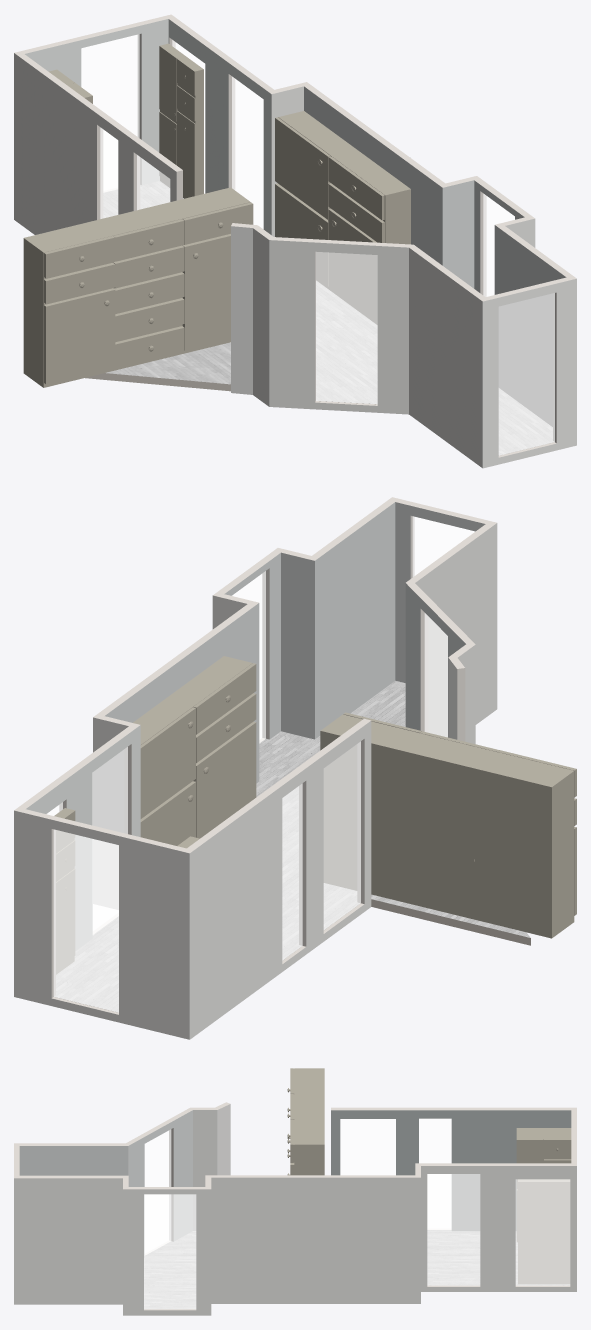
File: BasementHallway.glb
3 views of the same model, one above another, from view 1: azimuth 30°, elevation 25°; view 2: azimuth 150°, elevation 25°; view 3: azimuth 270°, elevation 25° (orthographic). The views are drawn at different scales.
Parts seen in each view (by area): view 1: storage_cabinet_mid30, storage_cabinet_mid20, wall_6, wall_3, wall_5, floor_Other_1, door_7, door_15, wall_32, door_1, door_9, wall_0 (+28 smaller); view 2: storage_cabinet_mid30, wall_6, wall_7, storage_cabinet_mid20, wall_32, floor_Other_1, door_0, door_8, wall_5, wall_36, door_5, door_13 (+29 smaller); view 3: wall_10, wall_9, wall_26, wall_13, floor_Other_1, door_3, door_11, door_6, door_14, door_4, door_12, storage_cabinet_tall21 (+21 smaller).
Boxes of the visible parts, x1=… form: storage_cabinet_mid30: x1=23, y1=187, x2=253, y2=387; storage_cabinet_mid20: x1=275, y1=111, x2=410, y2=324; wall_6: x1=14, y1=53, x2=176, y2=234; wall_3: x1=269, y1=240, x2=408, y2=414; wall_5: x1=409, y1=248, x2=482, y2=467; floor_Other_1: x1=103, y1=181, x2=553, y2=455; door_7: x1=316, y1=252, x2=377, y2=403; door_15: x1=316, y1=252, x2=377, y2=403; wall_32: x1=494, y1=225, x2=566, y2=426; door_1: x1=499, y1=293, x2=554, y2=455; door_9: x1=499, y1=293, x2=554, y2=455; wall_0: x1=482, y1=278, x2=576, y2=468; storage_cabinet_mid30: x1=320, y1=712, x2=576, y2=938; wall_6: x1=189, y1=721, x2=371, y2=1039; wall_7: x1=14, y1=810, x2=189, y2=1039; storage_cabinet_mid20: x1=133, y1=656, x2=256, y2=845; wall_32: x1=315, y1=502, x2=395, y2=738; floor_Other_1: x1=54, y1=680, x2=405, y2=1012; door_0: x1=54, y1=829, x2=118, y2=1012; door_8: x1=54, y1=830, x2=118, y2=1012; wall_5: x1=415, y1=523, x2=497, y2=736; wall_36: x1=281, y1=552, x2=314, y2=739; door_5: x1=324, y1=741, x2=360, y2=929; door_13: x1=324, y1=742, x2=360, y2=929; wall_10: x1=211, y1=1177, x2=420, y2=1303; wall_9: x1=14, y1=1178, x2=122, y2=1304; wall_26: x1=331, y1=1110, x2=571, y2=1230; wall_13: x1=421, y1=1166, x2=576, y2=1291; floor_Other_1: x1=144, y1=1230, x2=569, y2=1308; door_3: x1=144, y1=1194, x2=195, y2=1308; door_11: x1=144, y1=1194, x2=195, y2=1308; door_6: x1=427, y1=1174, x2=479, y2=1285; door_14: x1=427, y1=1174, x2=479, y2=1285; door_4: x1=516, y1=1179, x2=569, y2=1285; door_12: x1=516, y1=1179, x2=569, y2=1285; storage_cabinet_tall21: x1=518, y1=1179, x2=569, y2=1283.
Bounding box in the file's own units: 5.74 × 2.42 × 9.77.
37 materials, 2 textured.
